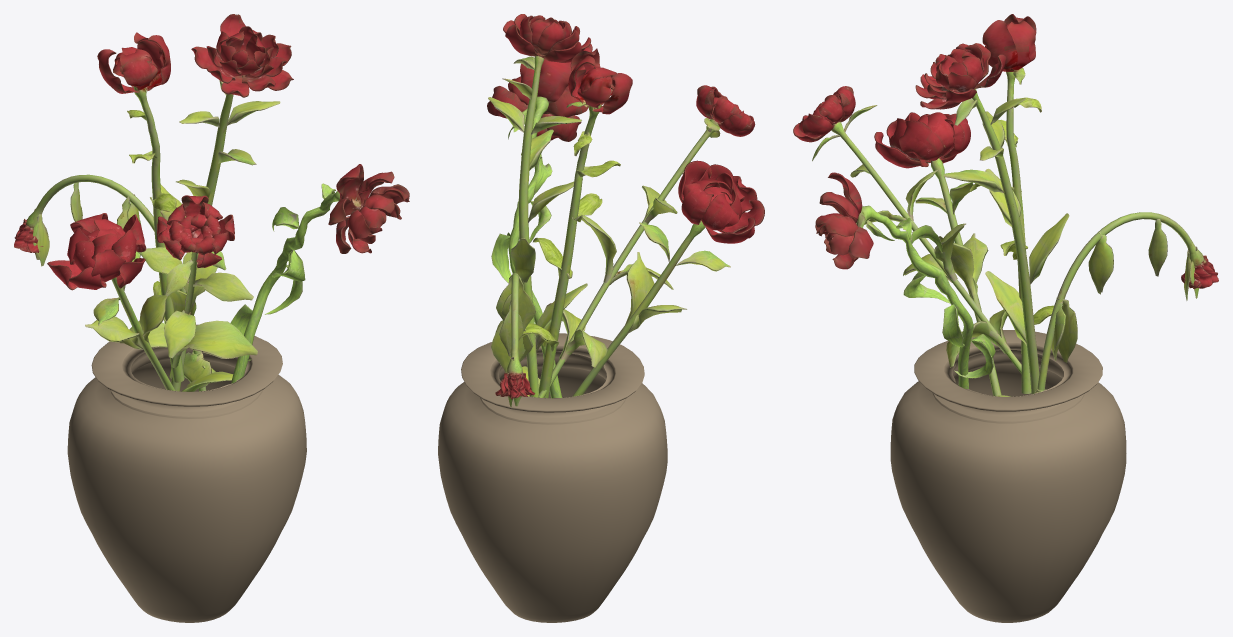
The model's file is nue-morte-round.glb.
The picture shows the model from 3 angles, left to right: view 1: azimuth 30°, elevation 25°; view 2: azimuth 150°, elevation 25°; view 3: azimuth 270°, elevation 25°; orthographic projection. The views are drawn at different scales.
Parts seen in each view (by area): view 1: droopyRosesAlone; view 2: droopyRosesAlone; view 3: droopyRosesAlone.
Boxes of the visible parts, <box> form: droopyRosesAlone: <box>14,14,409,622</box>; droopyRosesAlone: <box>438,14,764,622</box>; droopyRosesAlone: <box>793,14,1218,622</box>.
Bounding box in the file's own units: 0.1298 × 0.229 × 0.1551.
6 materials, 6 textured.
